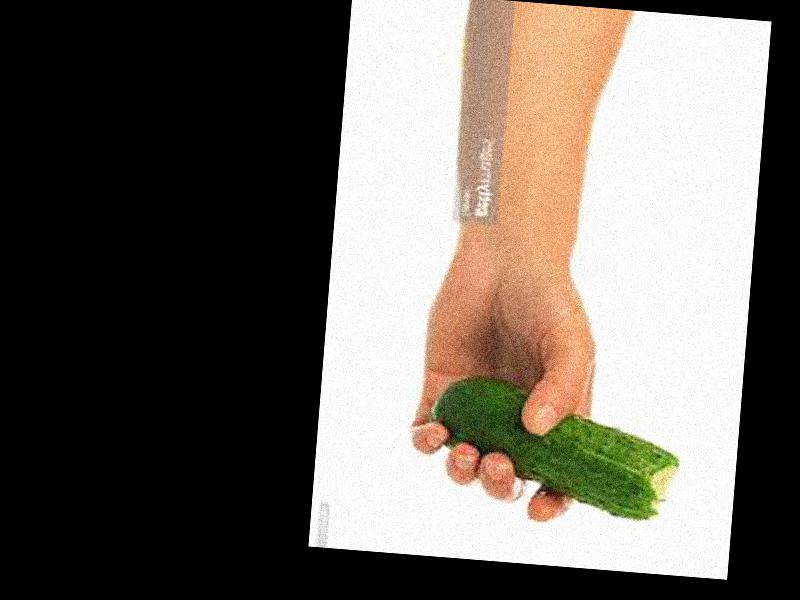Cucumber: (426, 374, 683, 522)
